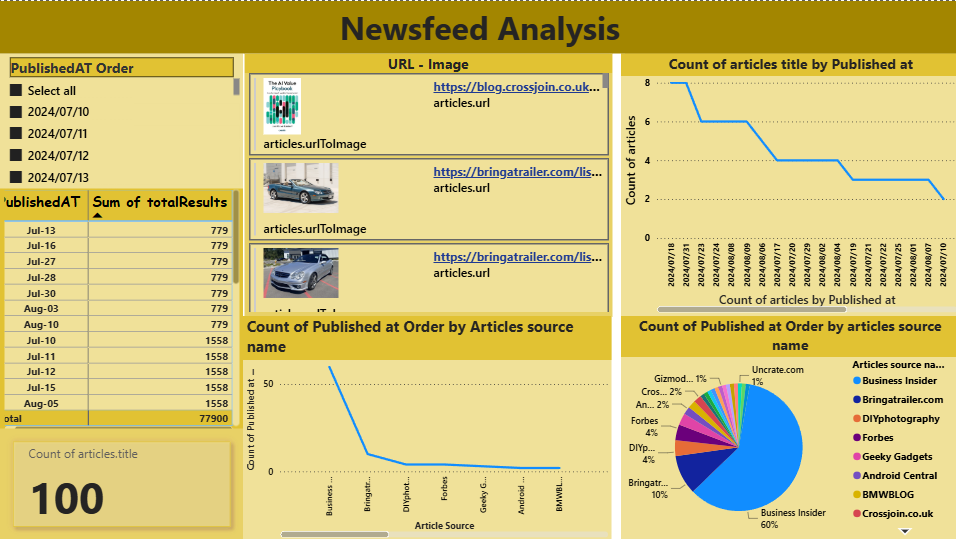

The dashboard page shown, as its layout file describes it:
{"tool":"powerbi","page":{"name":"Page 1","canvas":[1280,720],"ordinal":0},"visuals":[{"type":"tableEx","fields":{"Values":["everything?  q=power%20bi&pageSize=100&language=en.publishedAT","Sum(everything?  q=power%20bi&pageSize=100&language=en.totalResults)"]},"box":[0,245.3,324,334.6],"z":0},{"type":"slicer","fields":{"Values":["everything?  q=power%20bi&pageSize=100&language=en.publishedAT Order"]},"box":[0,70,324.3,180],"z":1000},{"type":"cardVisual","fields":{"Data":["CountNonNull(everything?  q=power%20bi&pageSize=100&language=en.articles.title)"]},"box":[0,570,324.3,148.6],"z":2000},{"type":"multiRowCard","title":"URL - Image","fields":{"Values":["everything?  q=power%20bi&pageSize=100&language=en.articles.urlToImage","everything?  q=power%20bi&pageSize=100&language=en.articles.url"]},"box":[325.7,70,490,350],"z":3000},{"type":"lineChart","title":"Count of articles title by Published at","fields":{"Category":["everything?  q=power%20bi&pageSize=100&language=en.PublishedAT Order"],"Y":["CountNonNull(everything?  q=power%20bi&pageSize=100&language=en.articles.title)"]},"box":[827.1,70,452.9,350],"z":4000},{"type":"lineChart","title":"Count of Published at Order by Articles source name","fields":{"Category":["everything?  q=power%20bi&pageSize=100&language=en.articles.source.name"],"Y":["CountNonNull(everything?  q=power%20bi&pageSize=100&language=en.PublishedAT Order)"]},"box":[324.3,420,491.4,300],"z":5000},{"type":"pieChart","title":"Count of Published at Order by articles source name","fields":{"Category":["everything?  q=power%20bi&pageSize=100&language=en.articles.source.name"],"Y":["CountNonNull(everything?  q=power%20bi&pageSize=100&language=en.PublishedAT Order)"]},"box":[828.6,420,451.4,300],"z":6000},{"type":"textbox","box":[0,0,1280,70],"z":7000}]}

Visuals, with their boxes in screenshot pixels (x1, y1, x2, y2), scaled from the page's 1280x720 canvas onto the 956x539 screenshot:
tableEx - everything?  q=power%20bi&pageSize=100&language=en.publishedAT x Sum(everything?  q=power%20bi&pageSize=100&language=en.totalResults): <box>0,184,242,434</box>
slicer - everything?  q=power%20bi&pageSize=100&language=en.publishedAT Order: <box>0,52,242,187</box>
cardVisual - CountNonNull(everything?  q=power%20bi&pageSize=100&language=en.articles.title): <box>0,427,242,538</box>
"URL - Image" multiRowCard: <box>243,52,609,314</box>
"Count of articles title by Published at" lineChart: <box>618,52,955,314</box>
"Count of Published at Order by Articles source name" lineChart: <box>242,314,609,538</box>
"Count of Published at Order by articles source name" pieChart: <box>619,314,955,538</box>
textbox: <box>0,0,955,52</box>
